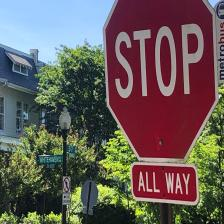Stop-sign: (102, 1, 220, 162)
